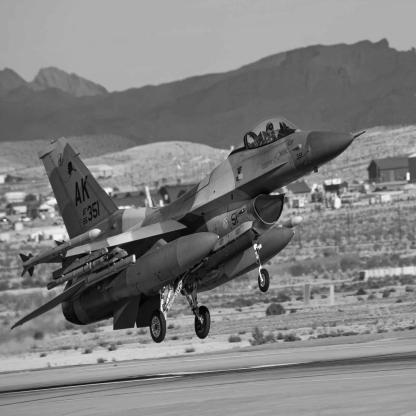F16: (10, 117, 367, 345)
